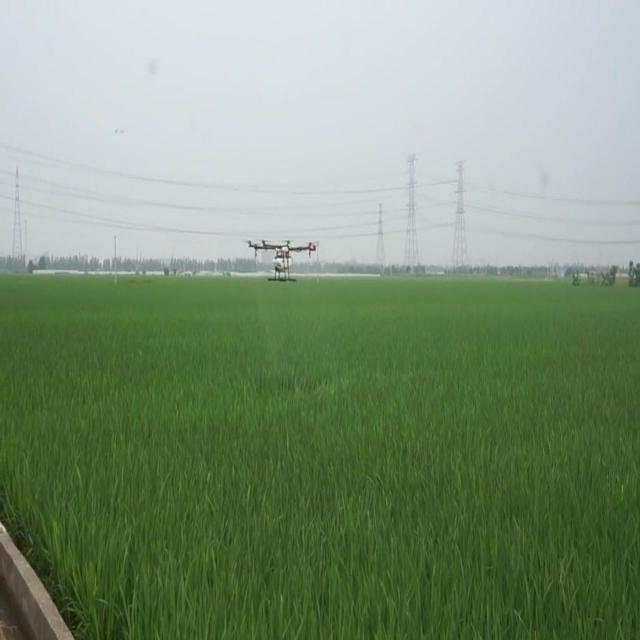UAV: (245, 239, 319, 283)
